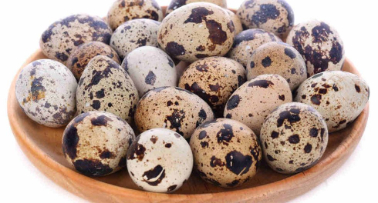egg: (153, 1, 249, 60), (65, 108, 138, 182), (190, 115, 262, 189), (260, 102, 329, 179), (13, 56, 80, 132), (297, 66, 369, 136), (77, 52, 141, 130), (126, 125, 196, 193), (34, 11, 112, 65), (288, 16, 349, 83)
